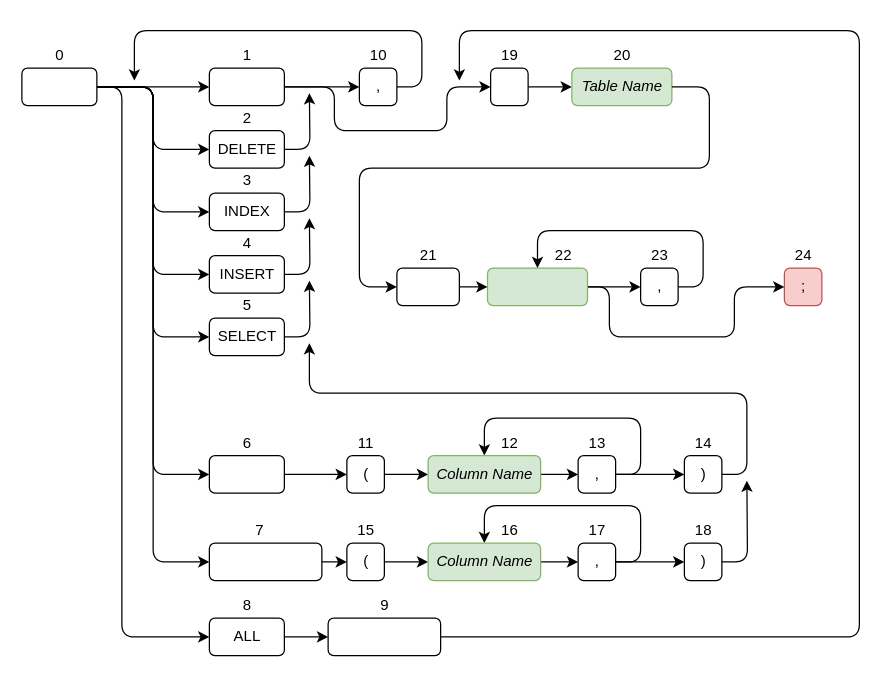
The diagram is 891 pixels wide and 678 high, and some of its shapes have lost their labels. Each missing label, with the centre of its shape:
ALTER: the point at 246,86
FROM: the point at 427,286
ON: the point at 508,86
PRIVILEGES: the point at 384,636
REFERENCES: the point at 265,561
REVOKE: the point at 59,86
UPDATE: the point at 246,473
Username: the point at 537,286
